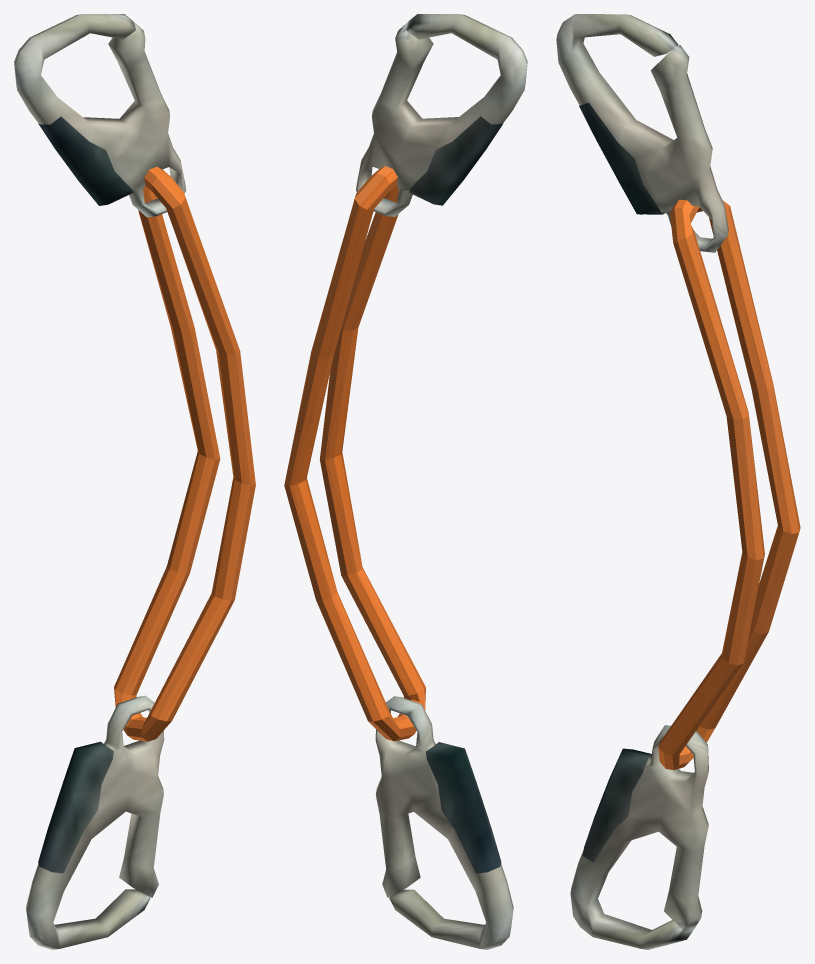
File: kanca.glb
3 renders of one model, left to right at view 1: azimuth 30°, elevation 25°; view 2: azimuth 150°, elevation 25°; view 3: azimuth 330°, elevation 25°, orthographic.
Visible parts, largest first — view 1: kanca; view 2: kanca; view 3: kanca.
Part boxes in pixels (x1=…): kanca: x1=14, y1=14, x2=255, y2=949; kanca: x1=284, y1=14, x2=527, y2=949; kanca: x1=556, y1=14, x2=800, y2=949.
Size of the model in its own units: 0.1481 by 0.5905 by 0.0549.
2 materials, 2 textured.
